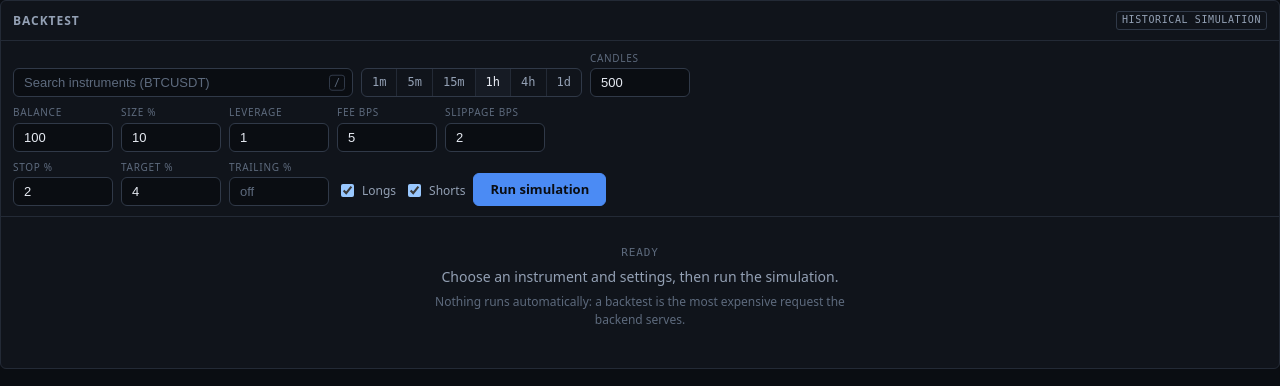
Test: BacktestPage › surfaces a backend error with its code
The width and height of the screenshot is (1280, 386).
Click the button "Run simulation": click(540, 190) [473,173,606,206]
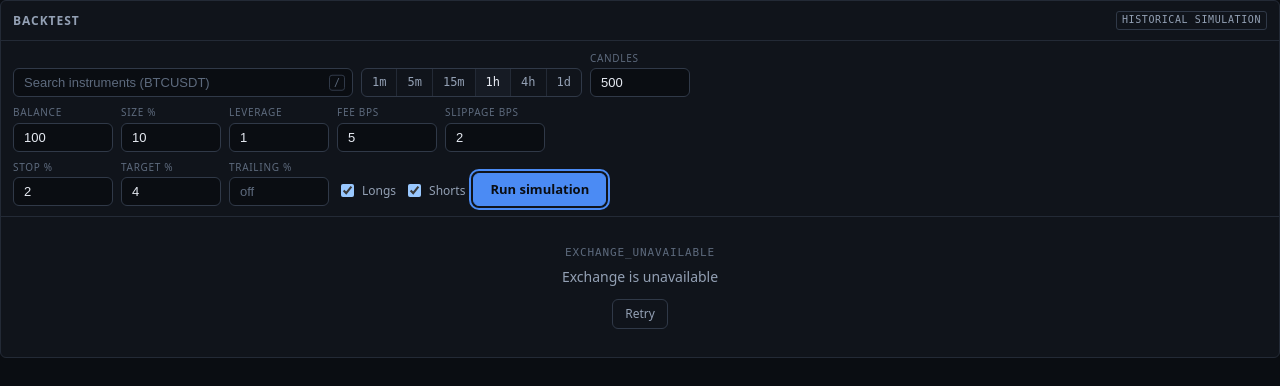
Result: the text "EXCHANGE_UNAVAILABLE" is shown at [565,246,715,259]
